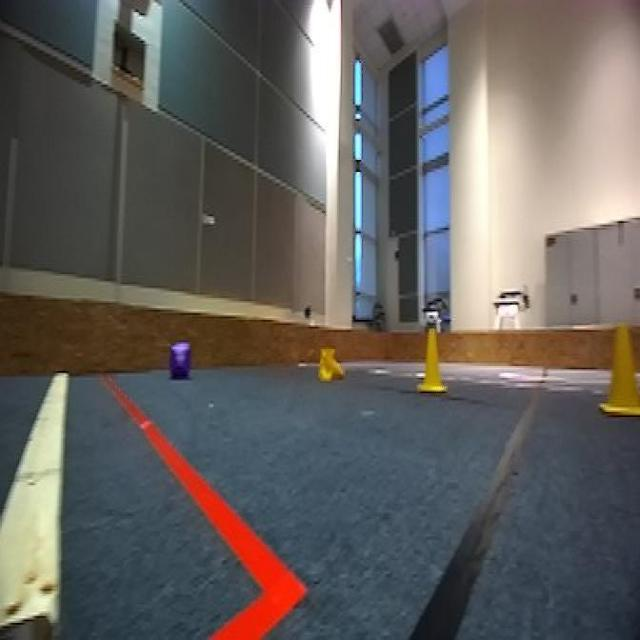frc_cone: (601, 325, 632, 417), (416, 320, 451, 397), (316, 346, 348, 381)
frc_cube: (166, 339, 192, 378)
